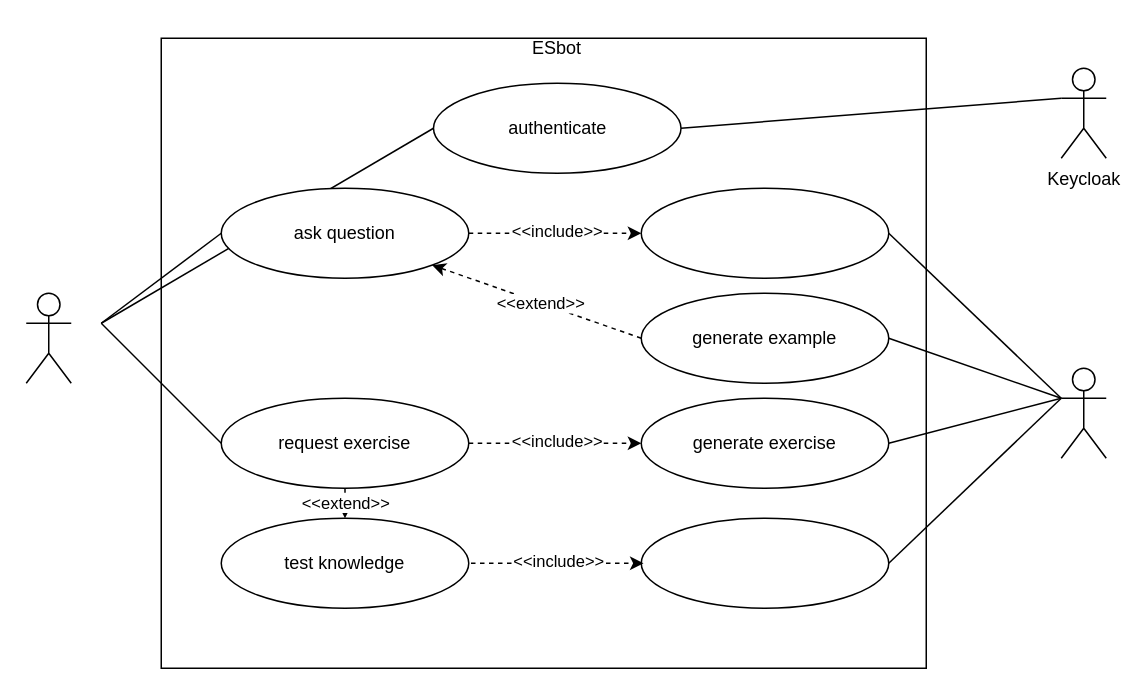
Image size: 1146x695. Some labels were removed from this diagram. The shapes that lost their labels are listed below. From the top down, each one's centre as x and y in pixels, then its label:
At pixel 764 232: "generate explanation".
At pixel 48 337: "User".
At pixel 1083 412: "LLM".
At pixel 764 562: "evaluate answer of exercise".
